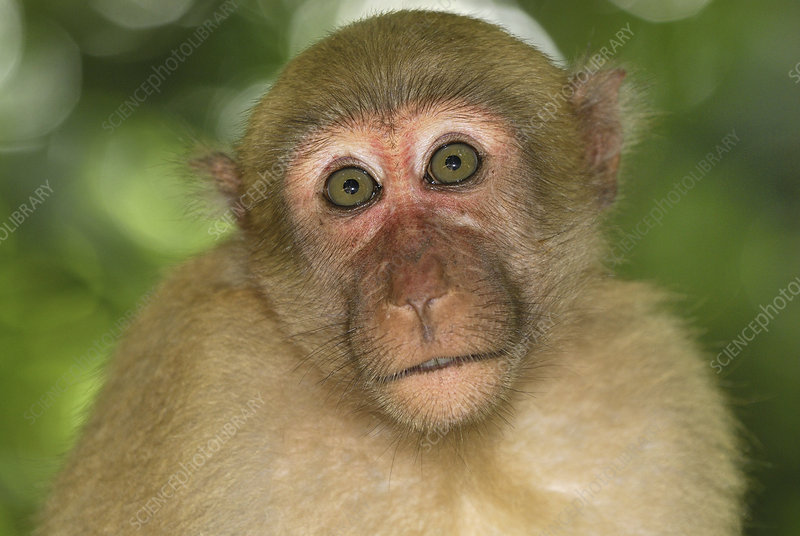monkey: (34, 15, 754, 534)
